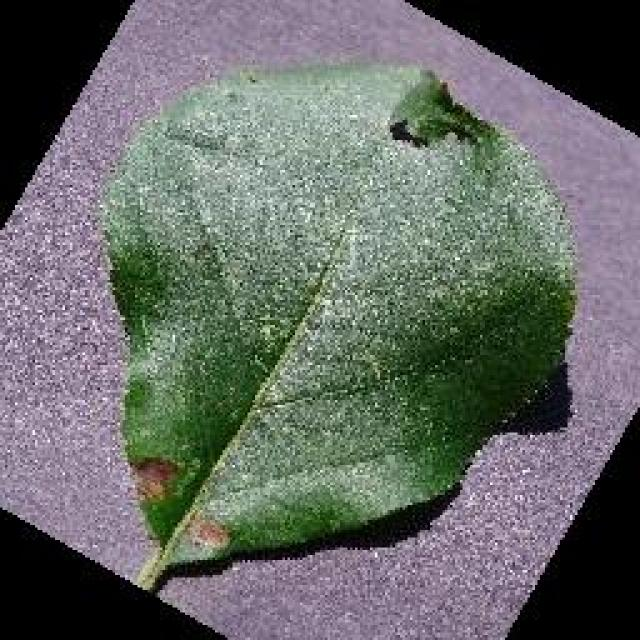apple black rot: (95, 55, 580, 577)
